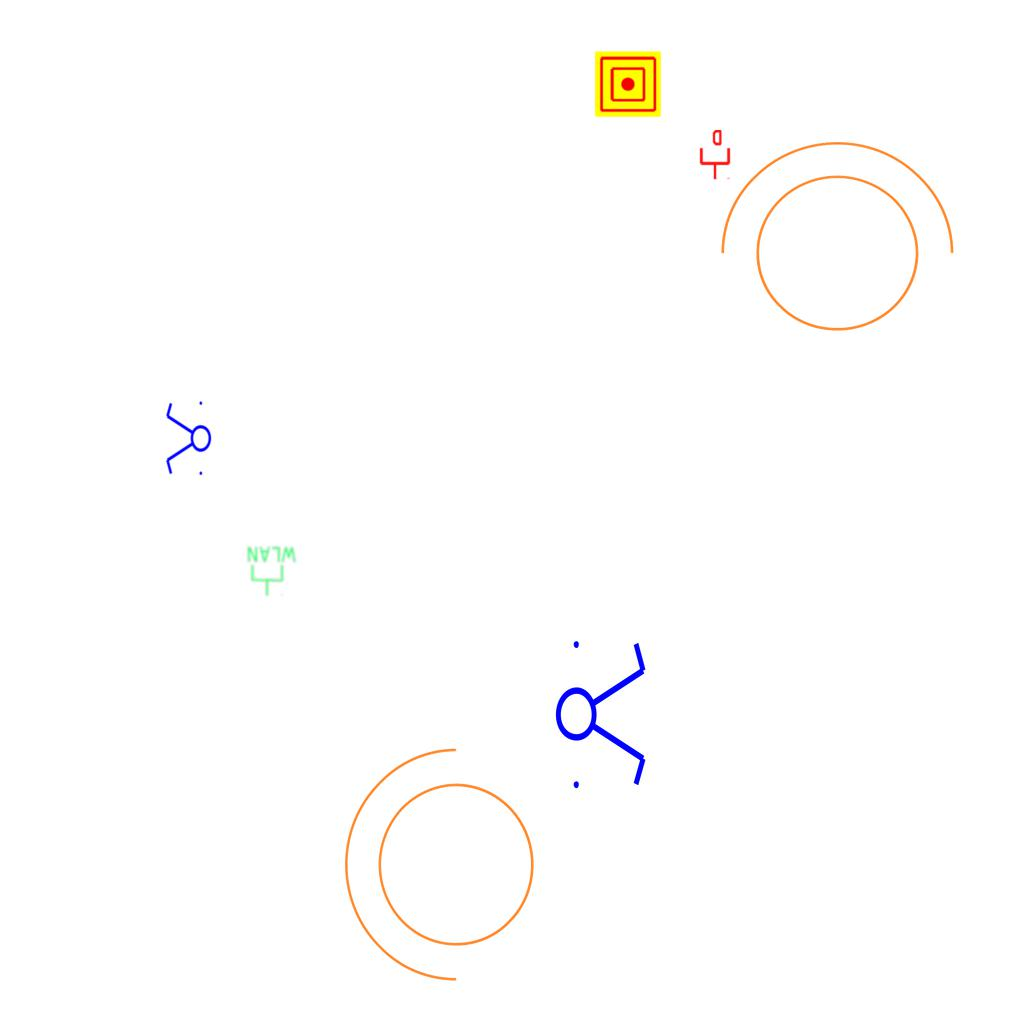Datenanschluss_einfach: (698, 130, 732, 180)
NAM-Nichtautomatischer_Melder: (595, 51, 661, 117)
Scheinwerfer_fuer_Alarmbeleuchtung: (334, 739, 559, 1003), (699, 131, 963, 356)
Serienschalter: (554, 629, 650, 797), (164, 397, 212, 481)
WLAN: (246, 545, 298, 597)
